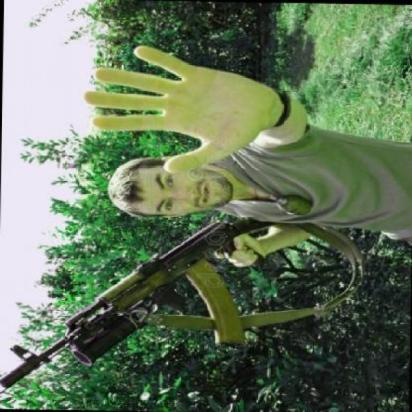Gun: (2, 211, 268, 398)
